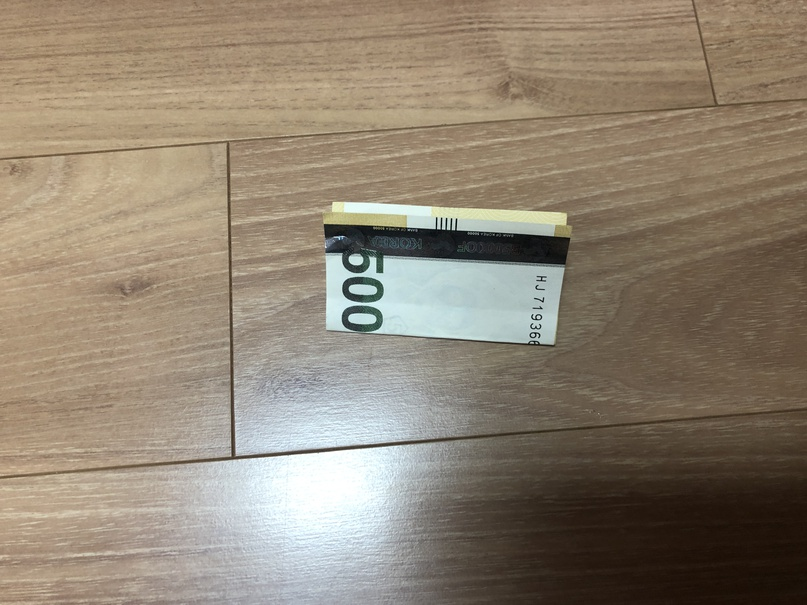50000won: (324, 202, 573, 346)
